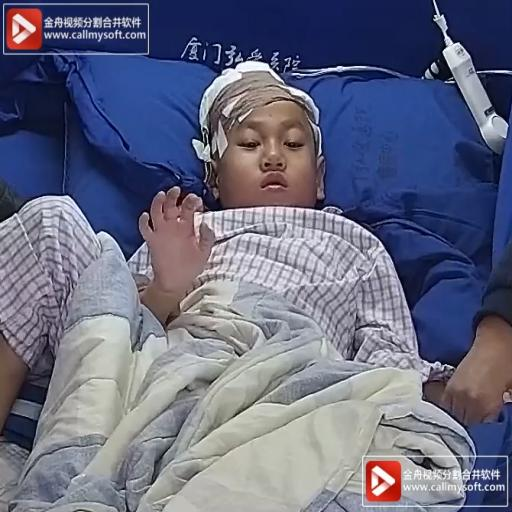Netural: (201, 92, 364, 239)
